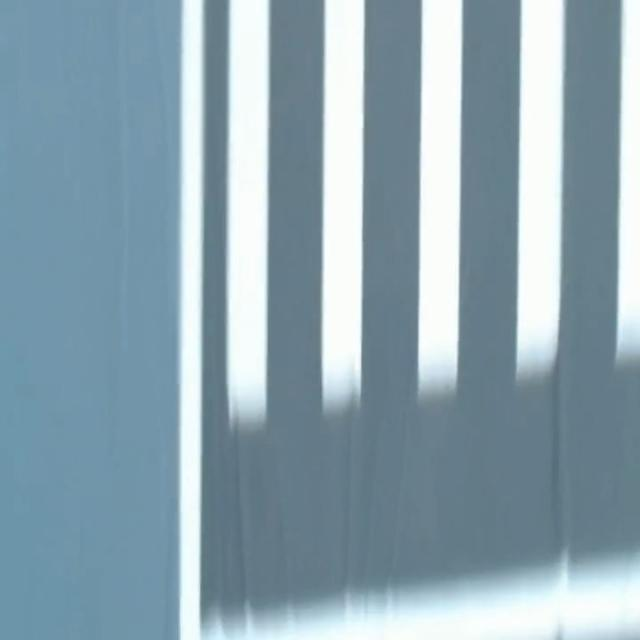left: (178, 0, 202, 639)
